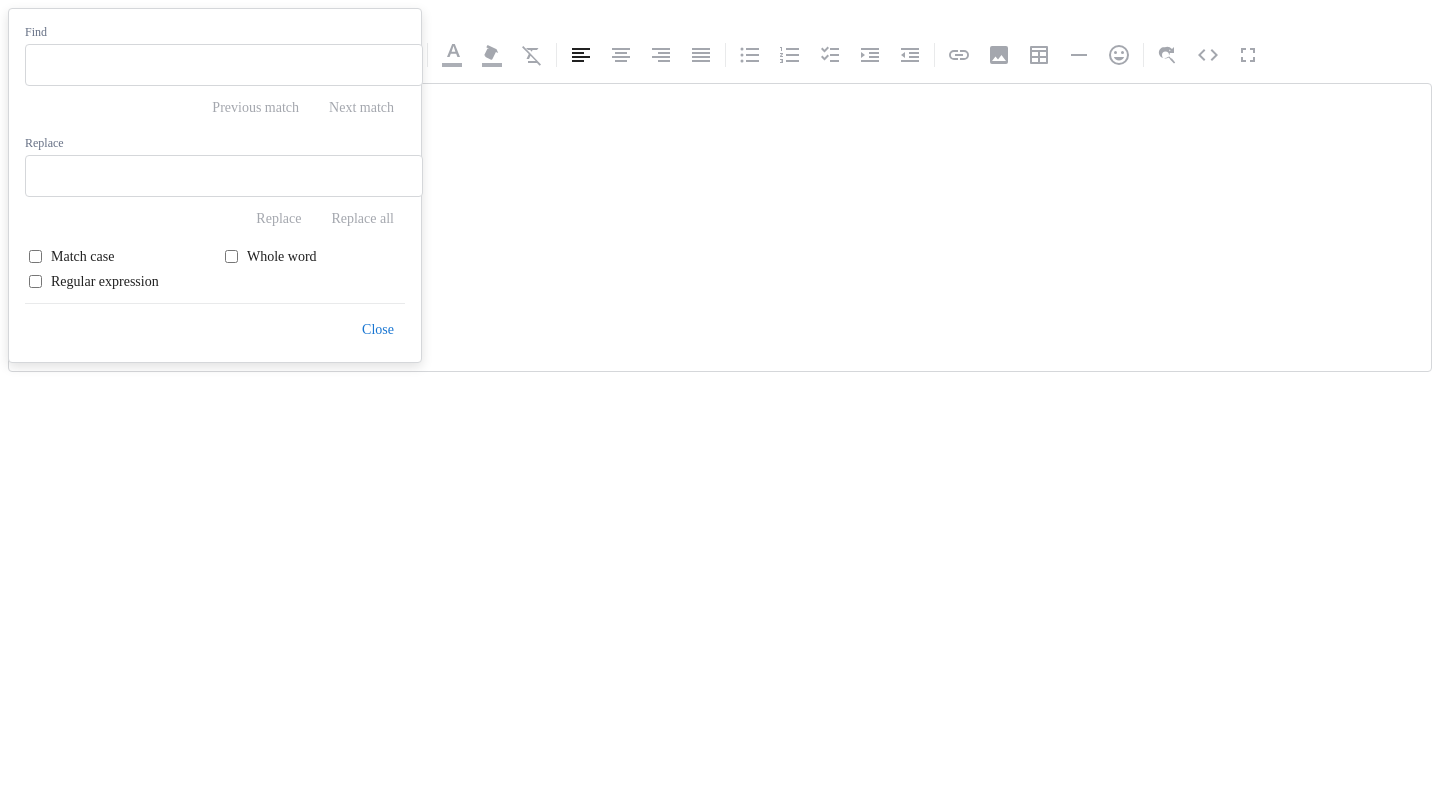
Test: find and replace › honours match case
Type "water" into the field labelled "Find" at (224, 65), box [25,44,423,86]
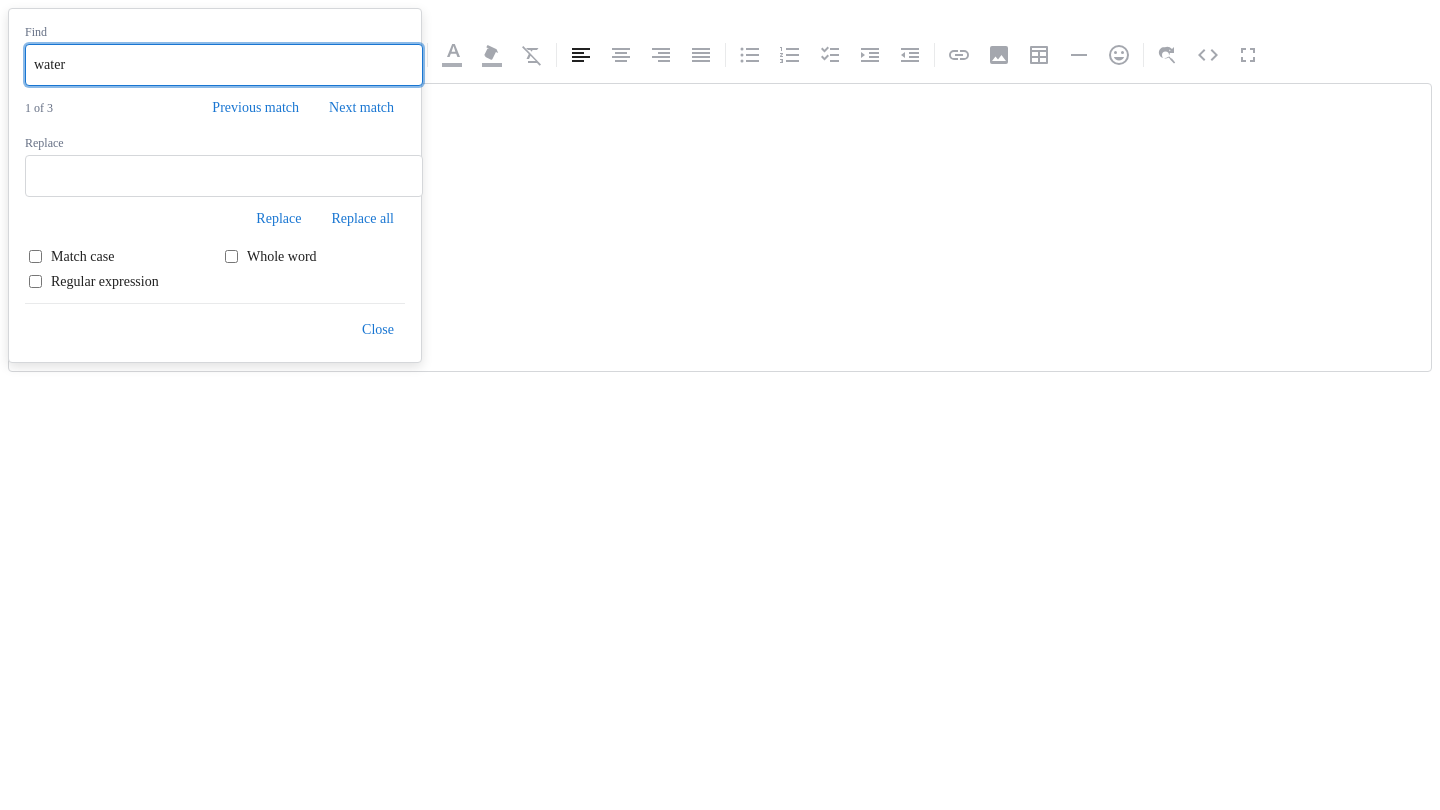
Expected: the text "1 of 3" is shown, [25,100,53,116]
Click the checkbox labelled "Match case" at (36, 256), box [29,250,42,263]
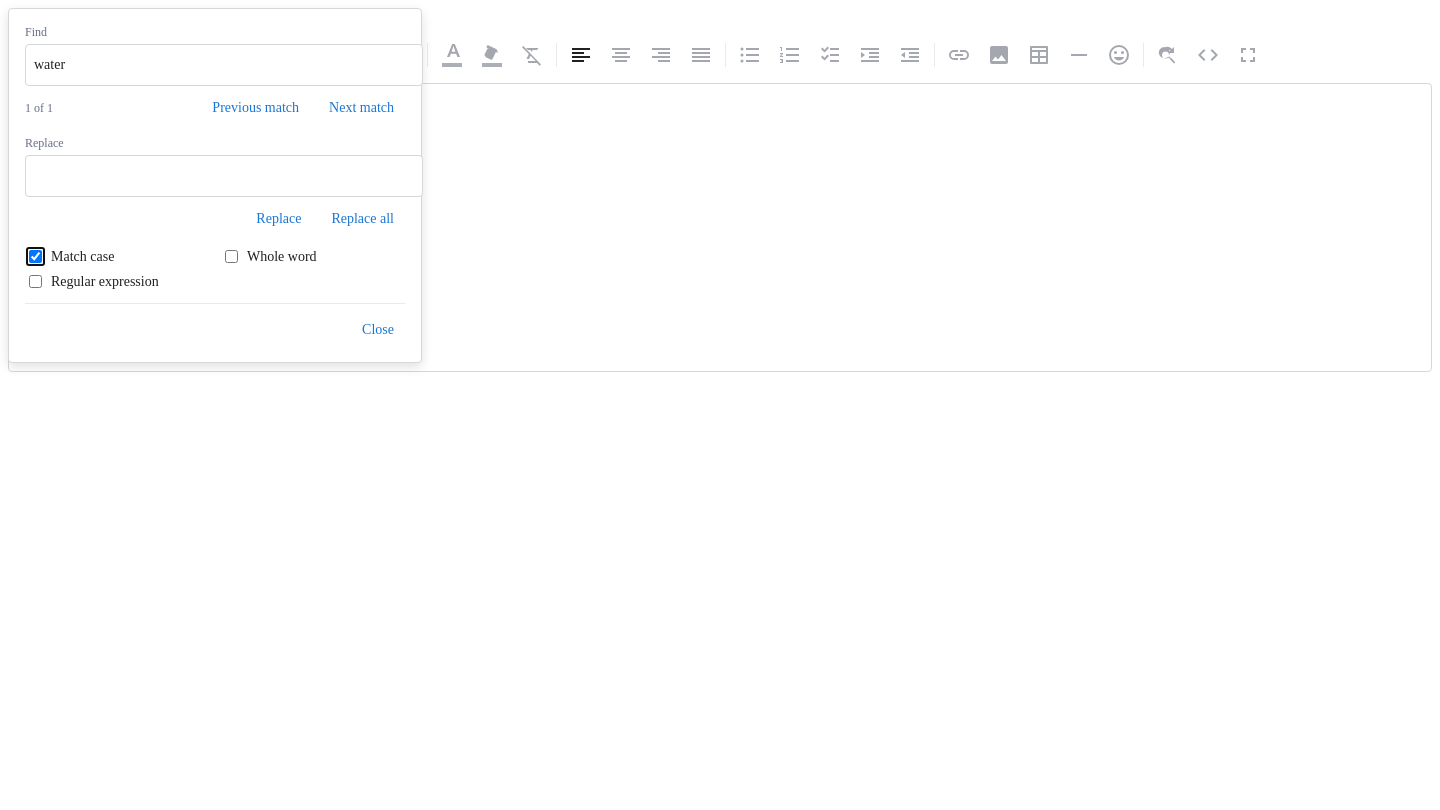
Expected: the text "1 of 1" is shown, [25,100,53,116]
